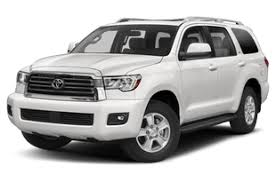Toyota: (10, 23, 257, 146)
